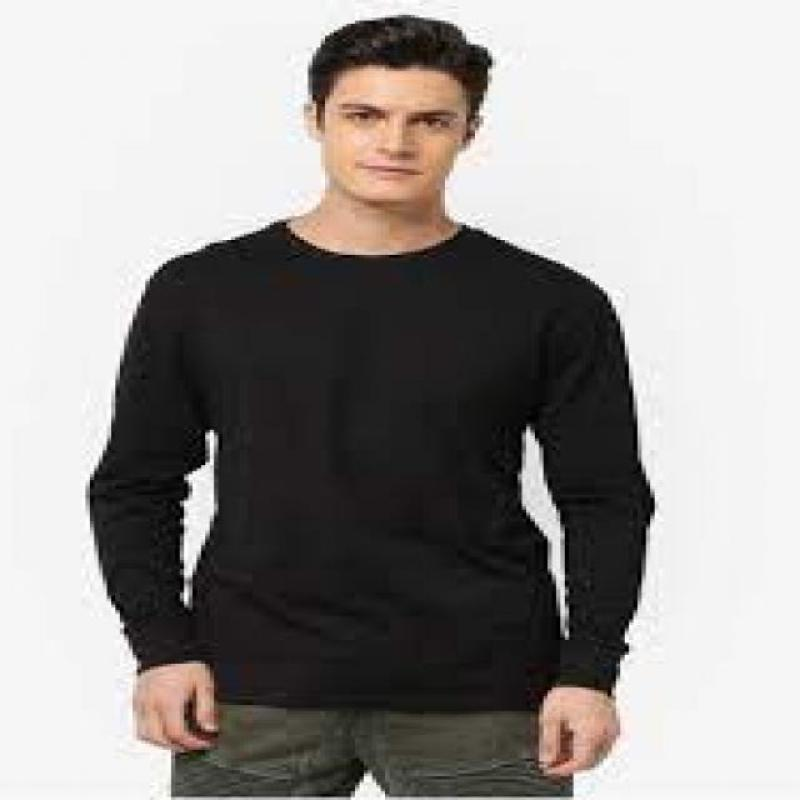long sleeve shirt: (85, 215, 655, 702)
trousers: (165, 676, 576, 800)
